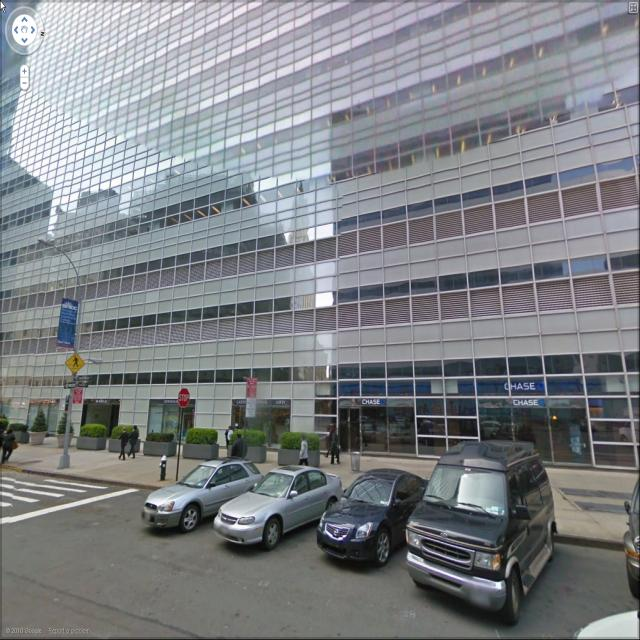b_1: (1, 4, 636, 447)
